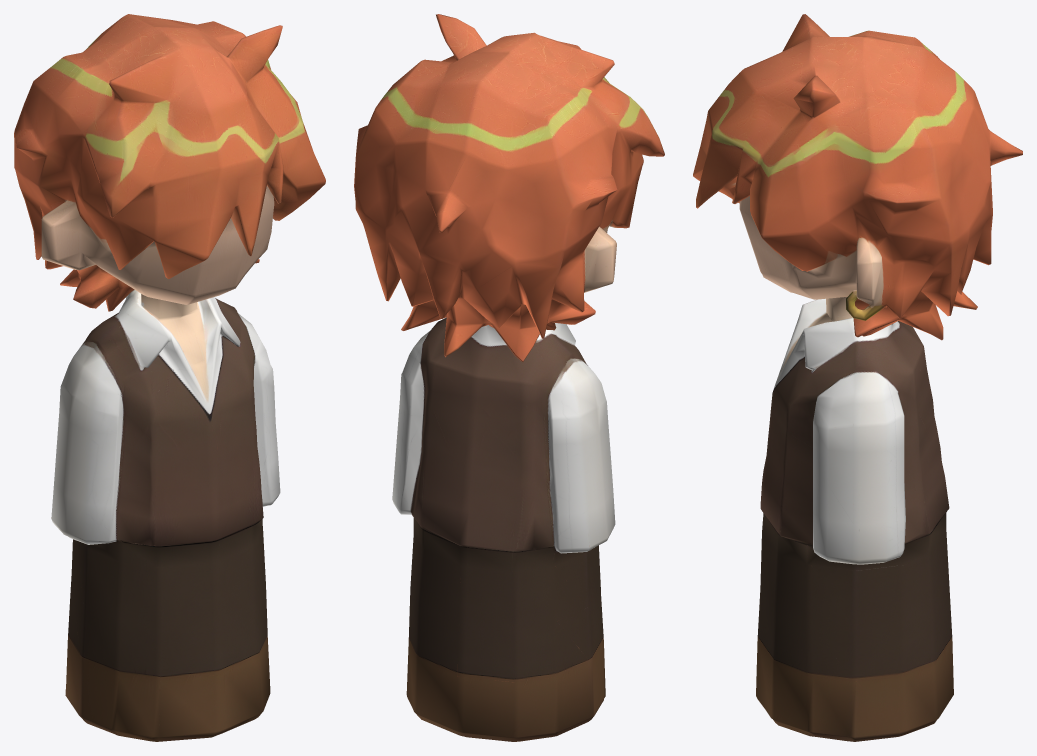
File: Meshy_AI_Papercut_Persona_0425081844_texture.fbx
3 views of the same model, side by side, from view 1: azimuth 30°, elevation 25°; view 2: azimuth 150°, elevation 25°; view 3: azimuth 270°, elevation 25° (orthographic). The views are drawn at different scales.
Visible parts, largest first — view 1: Mesh_0; view 2: Mesh_0; view 3: Mesh_0.
Part boxes in pixels (x1,y1,x2,y2): Mesh_0: (14,14,325,741); Mesh_0: (354,14,664,741); Mesh_0: (693,14,1022,741).
Size of the model in its own units: 77.89 by 191 by 86.11.
Materials: 1 (1 with a texture image).
